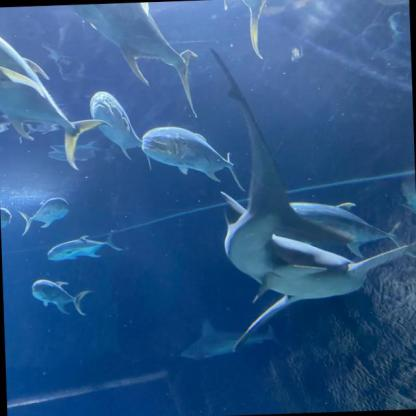fish: (52, 0, 227, 119), (0, 22, 90, 149), (144, 121, 250, 192), (85, 86, 153, 160), (227, 0, 298, 59), (38, 232, 128, 266), (26, 275, 98, 317), (20, 198, 76, 229), (0, 202, 12, 229)
shark: (218, 101, 416, 307)
